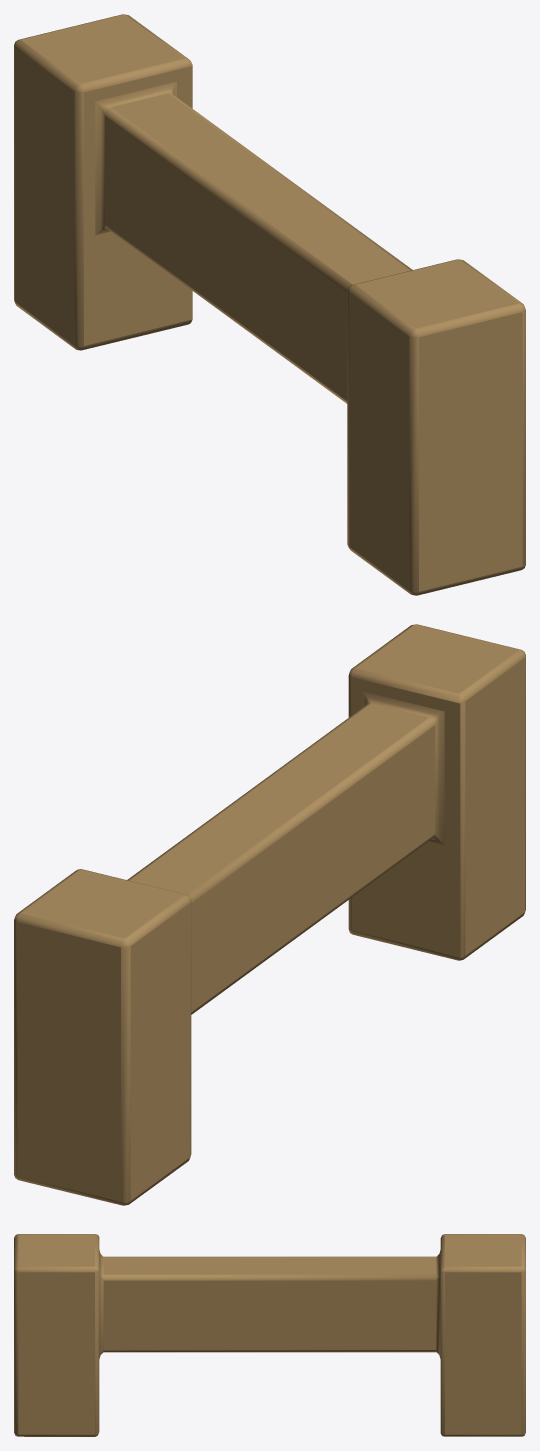
The model's file is Wood_Fence_01.obj.
3 views of the same model, one above another, from view 1: azimuth 30°, elevation 25°; view 2: azimuth 150°, elevation 25°; view 3: azimuth 270°, elevation 25° (orthographic). The views are drawn at different scales.
Visible parts, largest first — view 1: Wood_Fence_01; view 2: Wood_Fence_01; view 3: Wood_Fence_01.
Part boxes in pixels (<box>): Wood_Fence_01: <box>14,14,525,595</box>; Wood_Fence_01: <box>14,624,525,1205</box>; Wood_Fence_01: <box>14,1234,525,1436</box>.
Size of the model in its own units: 0.5 by 1.1 by 3.
